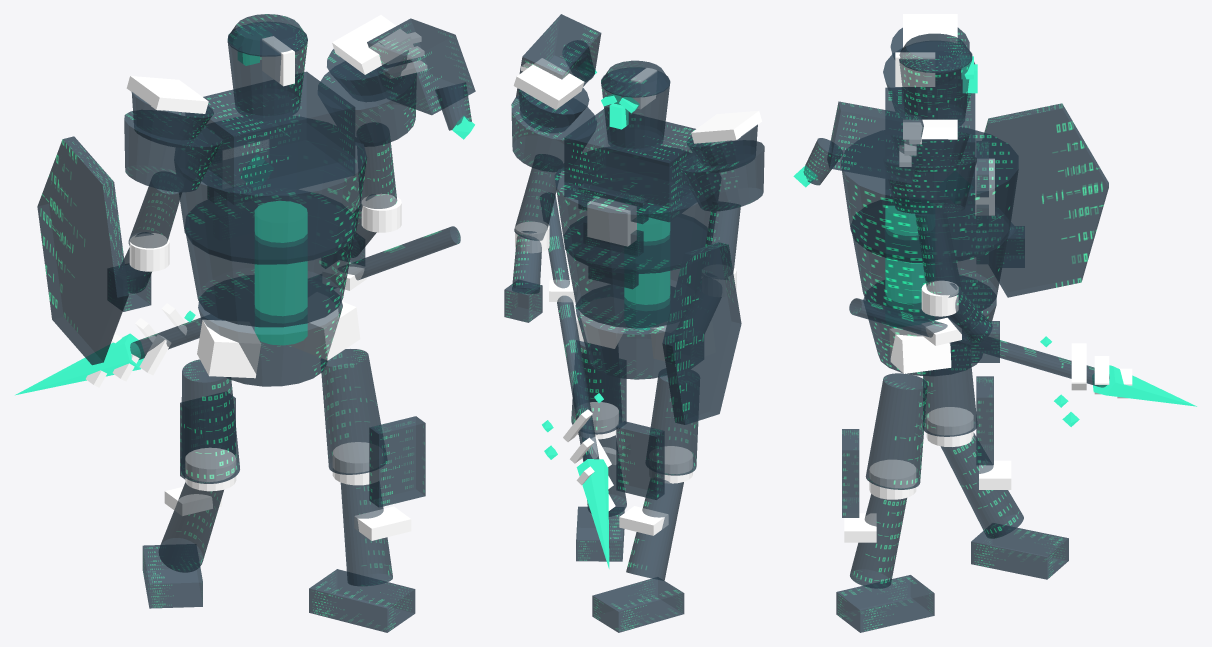
Rendered from chevalier.glb.
3 views of the same model, side by side, from view 1: azimuth 30°, elevation 25°; view 2: azimuth 150°, elevation 25°; view 3: azimuth 270°, elevation 25° (orthographic). The views are drawn at different scales.
Parts seen in each view (by area): view 1: guerrier; view 2: guerrier; view 3: guerrier.
Part boxes in pixels (box(x1,y1,x2,y2)): guerrier: box(15, 14, 475, 632); guerrier: box(504, 14, 764, 632); guerrier: box(793, 14, 1196, 632).
Size of the model in its own units: 1.25 by 2.38 by 1.62.
